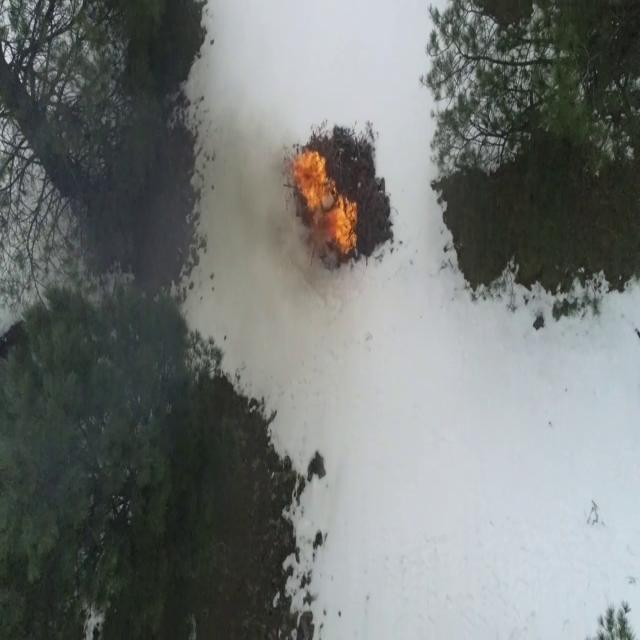fire: (291, 148, 332, 216), (323, 202, 359, 258)
